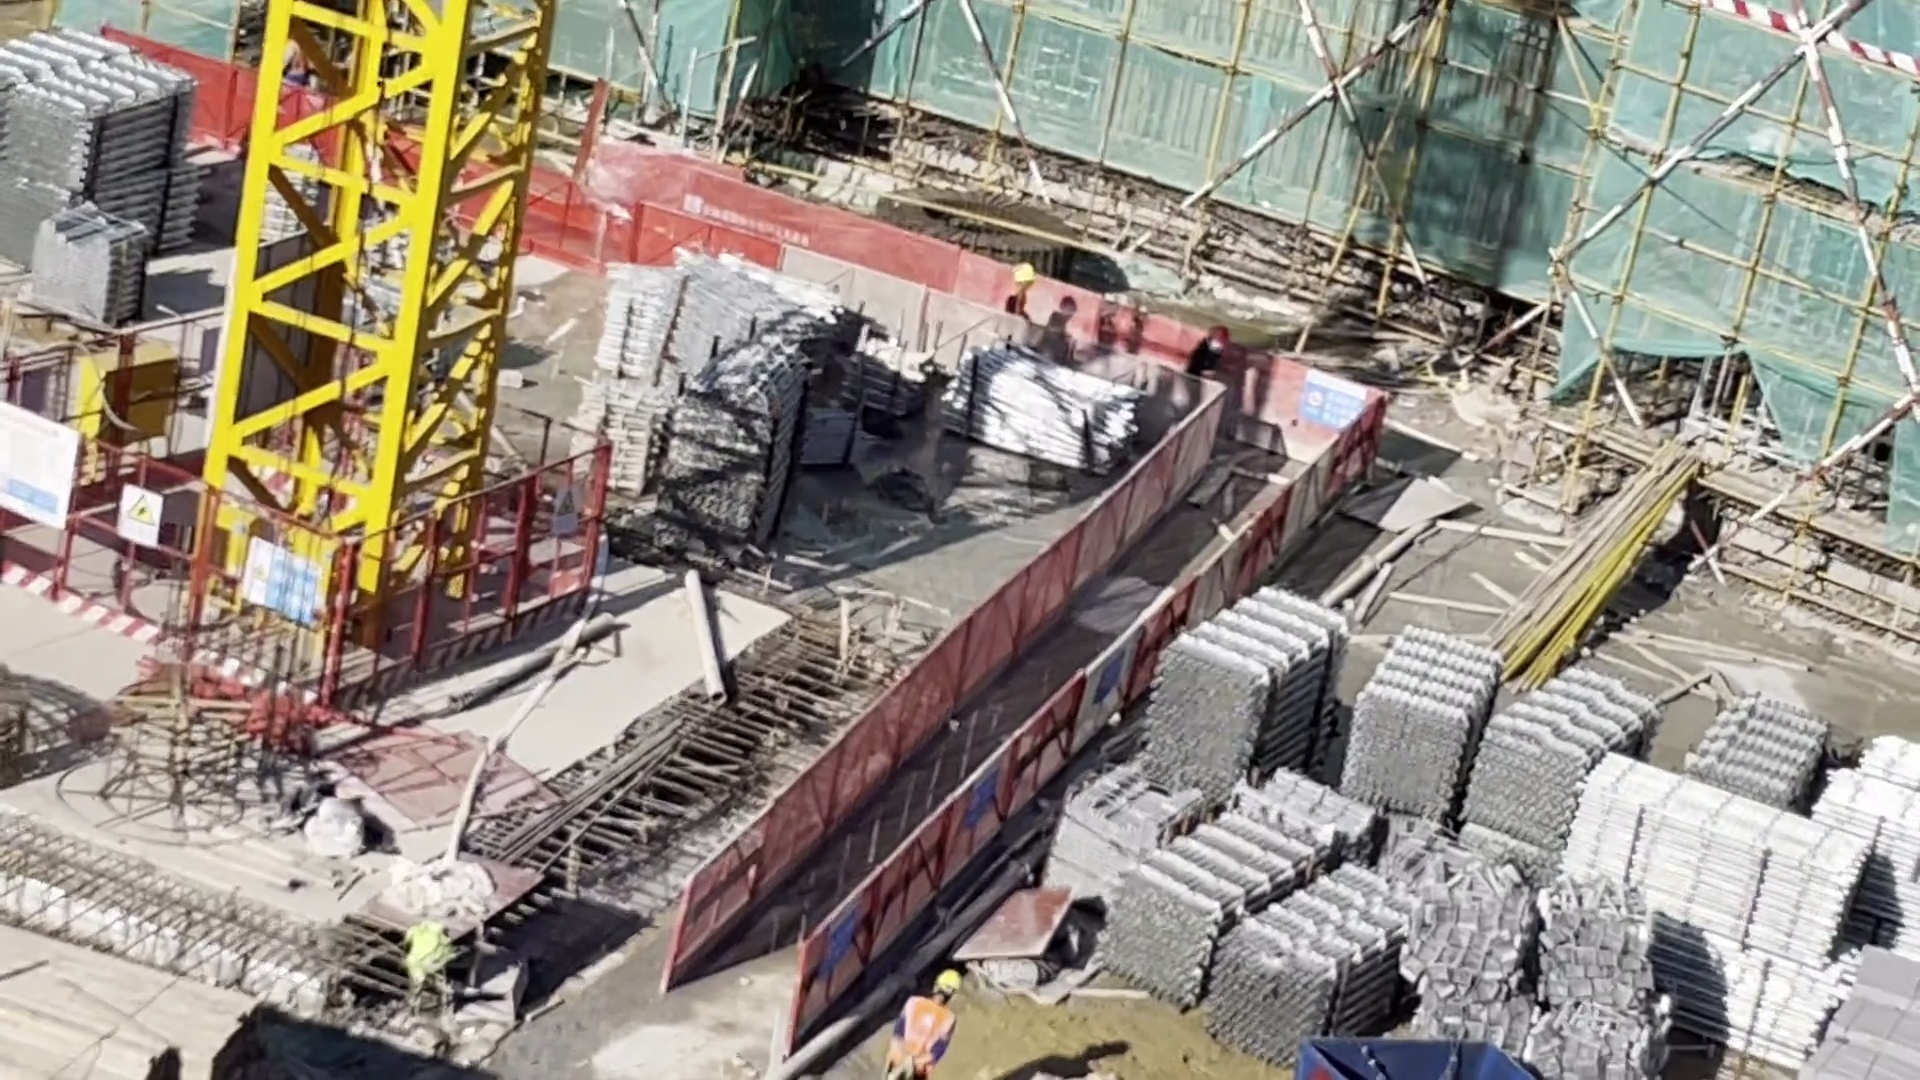brick: (1797, 957, 1917, 1080)
ebox: (78, 350, 171, 454)
fence: (689, 407, 1392, 993), (531, 129, 979, 337)
helmet: (935, 970, 961, 995)
hopper: (1296, 1030, 1542, 1080)
person: (888, 972, 963, 1080), (1181, 329, 1229, 383), (1005, 264, 1033, 319)
scaffold: (1571, 754, 1852, 1066), (1152, 585, 1335, 802), (1212, 862, 1400, 1066), (1105, 814, 1317, 984), (1469, 664, 1656, 851), (1349, 624, 1495, 824), (613, 260, 823, 379), (669, 347, 790, 550), (8, 58, 194, 188), (948, 347, 1138, 474), (1816, 737, 1920, 951), (1681, 693, 1823, 812), (24, 204, 142, 333), (574, 380, 666, 489), (843, 339, 933, 426)
slogan: (239, 541, 321, 630), (1300, 364, 1366, 427), (825, 908, 867, 972), (120, 487, 162, 543), (971, 765, 998, 830), (552, 487, 579, 537)
vest: (902, 996, 950, 1072)
wood: (1, 938, 259, 1077)
